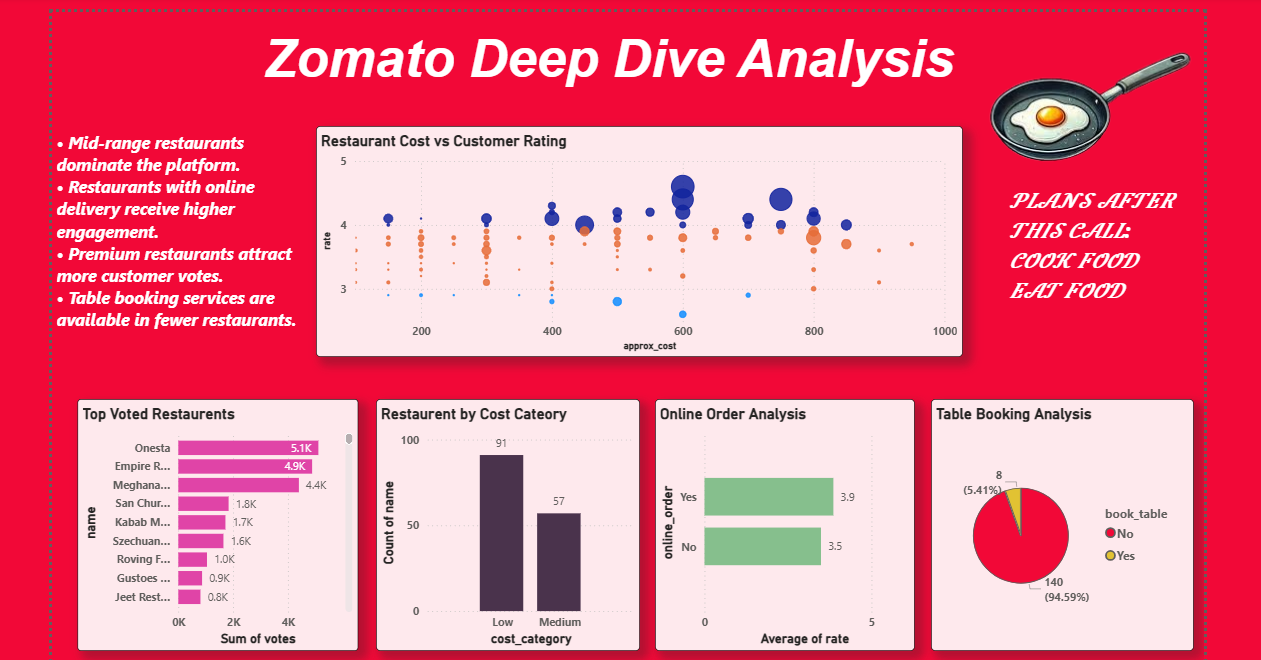

Layout of this report page (visuals, bound fields, positions):
{"tool":"powerbi","page":{"name":"Page 2","canvas":[1280,720],"ordinal":1},"visuals":[{"type":"clusteredColumnChart","title":"Restaurent by Cost Cateory","fields":{"Category":["Sheet1.cost_category"],"Y":["CountNonNull(Sheet1.name)"]},"box":[360,430,293.3,280],"z":0},{"type":"clusteredBarChart","title":"Online Order Analysis","fields":{"Category":["Sheet1.online_order"],"Y":["Avg(Sheet1.rate)"]},"box":[670,430,288.3,280],"z":1000},{"type":"barChart","title":"Top Voted Restaurents","fields":{"Category":["Sheet1.name"],"Y":["Sum(Sheet1.votes)"]},"box":[26.7,430,311.7,280],"z":2000},{"type":"pieChart","title":"Table Booking Analysis","fields":{"Category":["Sheet1.book_table"],"Y":["CountNonNull(Sheet1.name)"]},"box":[976.7,430,291.7,280],"z":2001},{"type":"scatterChart","title":"Restaurant Cost vs Customer Rating","fields":{"X":["Sheet1.approx_cost"],"Y":["Sheet1.rate"],"Size":["Sum(Sheet1.votes)"],"Series":["Sheet1.rating_category"]},"box":[293.3,126.7,718.3,256.7],"z":2002},{"type":"textbox","box":[0,126.7,293.3,285],"z":2003},{"type":"image","box":[1031.7,0,248.3,173.3],"z":2004},{"type":"textbox","box":[1058.3,186.7,196.7,175],"z":2005},{"type":"textbox","box":[210,0,885,108.3],"z":2006}]}

Visuals, with their boxes in screenshot pixels (x1, y1, x2, y2):
"Restaurent by Cost Cateory" clusteredColumnChart: region(371, 395, 637, 648)
"Online Order Analysis" clusteredBarChart: region(652, 395, 912, 648)
"Top Voted Restaurents" barChart: region(70, 395, 352, 648)
"Table Booking Analysis" pieChart: region(929, 395, 1193, 648)
"Restaurant Cost vs Customer Rating" scatterChart: region(311, 121, 961, 353)
textbox: region(46, 121, 311, 379)
image: region(979, 7, 1203, 163)
textbox: region(1003, 175, 1181, 334)
textbox: region(236, 7, 1036, 104)
